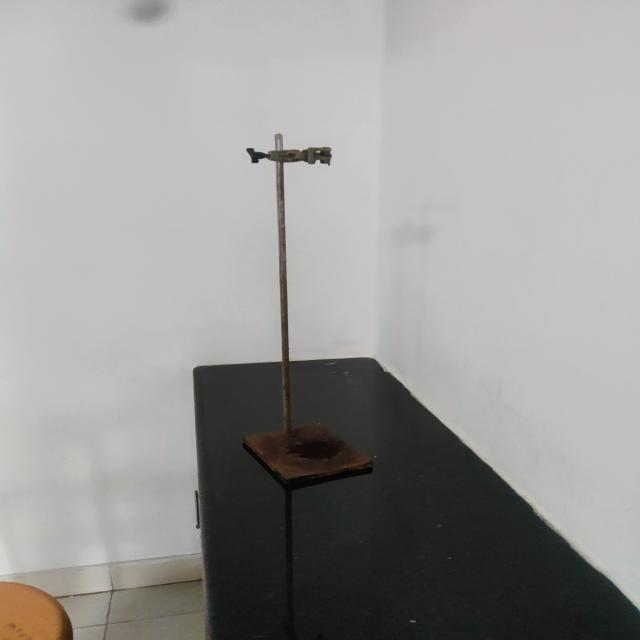Burette_Stands: (203, 109, 424, 519)
